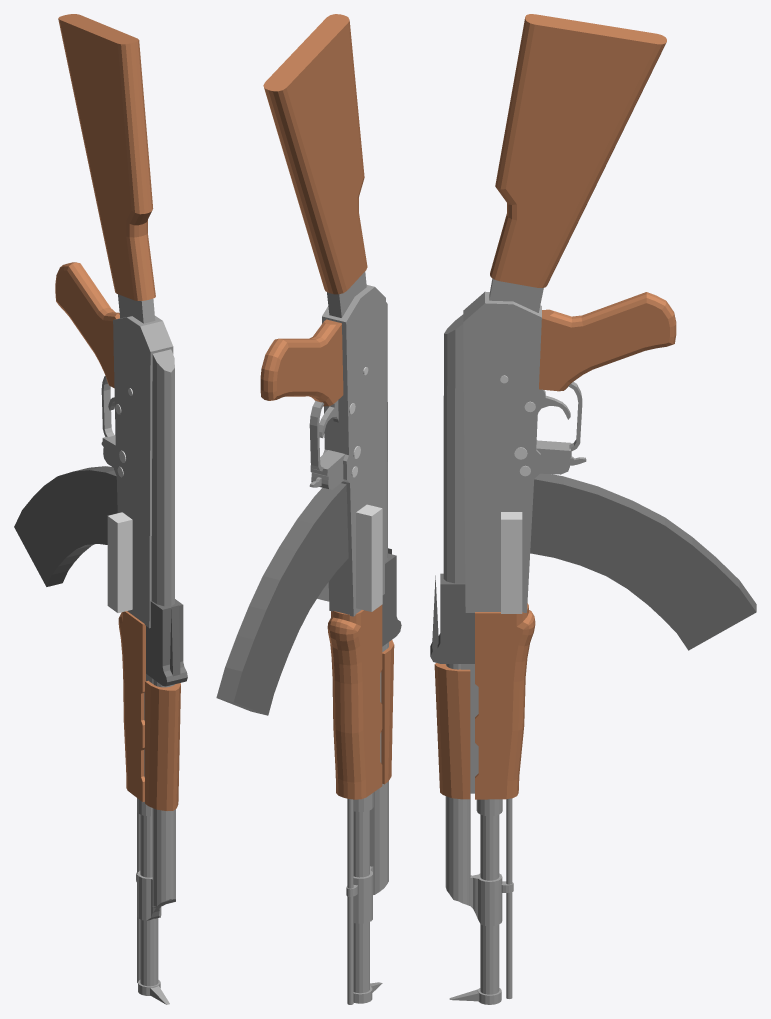
The picture shows the model from 3 angles, left to right: view 1: azimuth 30°, elevation 25°; view 2: azimuth 150°, elevation 25°; view 3: azimuth 270°, elevation 25°; orthographic projection. The views are drawn at different scales.
Parts seen in each view (by area): view 1: Cube.002, Cube, Cube.011, Cube.003, Cube.007, Cube.006, Cube.009, Cube.012, Cube.004, Cylinder, Cylinder.002, Cylinder.001 (+4 smaller); view 2: Cube.002, Cube.011, Cube, Cube.006, Cube.009, Cube.012, Cylinder.002, Cylinder, Cube.007, Cylinder.005, Cube.004, Cylinder.001 (+4 smaller); view 3: Cube.002, Cube, Cube.011, Cube.006, Cube.009, Cube.003, Cube.007, Cube.004, Cylinder, Cylinder.002, Cube.012, Cylinder.001 (+4 smaller).
Boxes of the visible parts, x1,y1,x2,y2 form: Cube.002: [58, 14, 155, 300]; Cube: [113, 316, 173, 628]; Cube.011: [14, 466, 117, 586]; Cube.003: [151, 349, 174, 606]; Cube.007: [145, 680, 180, 810]; Cube.006: [118, 611, 145, 801]; Cube.009: [55, 262, 119, 388]; Cube.012: [107, 512, 132, 612]; Cube.004: [146, 599, 187, 686]; Cylinder: [152, 679, 175, 907]; Cylinder.002: [140, 814, 158, 986]; Cylinder.001: [137, 871, 161, 920]; Cube.002: [263, 14, 367, 294]; Cube.011: [216, 483, 348, 715]; Cube: [322, 285, 385, 616]; Cube.006: [327, 605, 382, 799]; Cube.009: [260, 319, 343, 406]; Cube.012: [317, 504, 382, 611]; Cylinder.002: [353, 810, 369, 993]; Cylinder: [370, 642, 388, 894]; Cube.007: [381, 640, 394, 784]; Cylinder.005: [347, 798, 353, 1004]; Cube.004: [382, 553, 401, 646]; Cylinder.001: [353, 866, 373, 923]; Cube.002: [490, 14, 666, 287]; Cube: [463, 291, 541, 612]; Cube.011: [530, 473, 756, 650]; Cube.006: [475, 603, 535, 799]; Cube.009: [539, 292, 676, 391]; Cube.003: [443, 314, 465, 583]; Cube.007: [434, 663, 470, 799]; Cube.004: [430, 573, 474, 663]; Cylinder: [445, 664, 470, 905]; Cylinder.002: [480, 814, 499, 994]; Cube.012: [501, 512, 522, 613]; Cylinder.001: [470, 873, 502, 926].
Bounding box in the file's own units: 0.5989 × 10.22 × 3.08.
